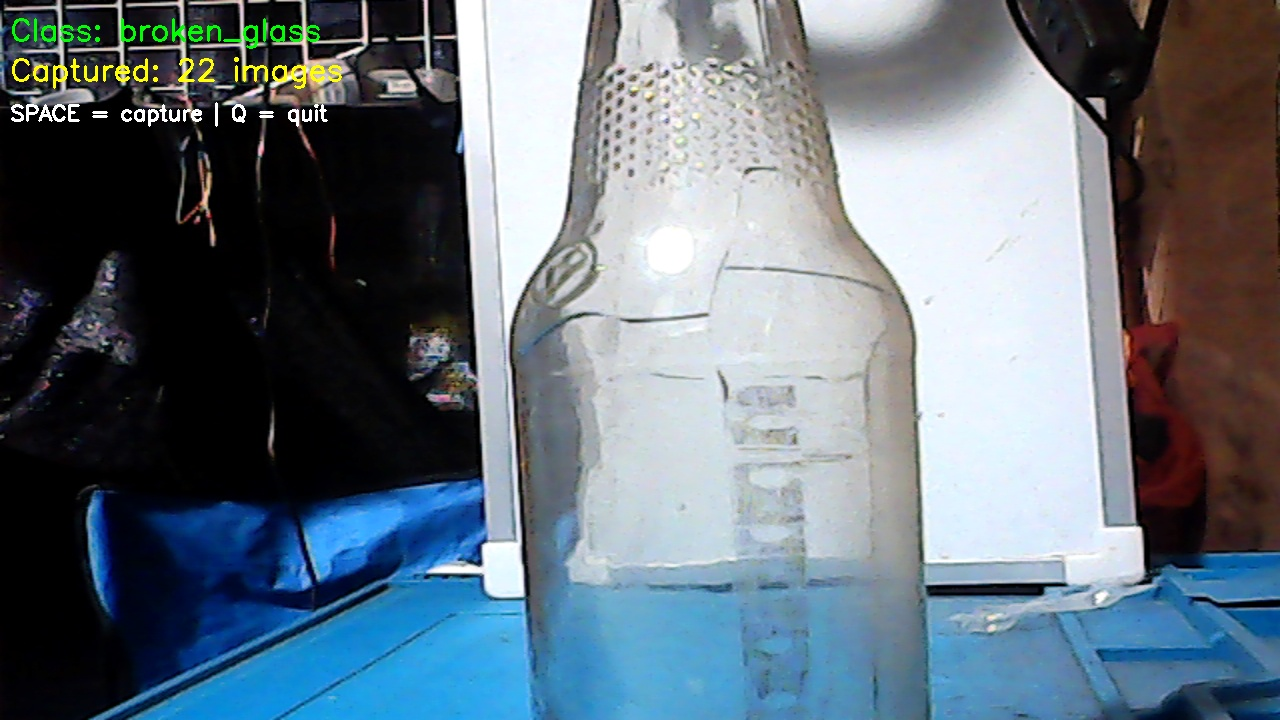broken_glass: (496, 0, 931, 720)
